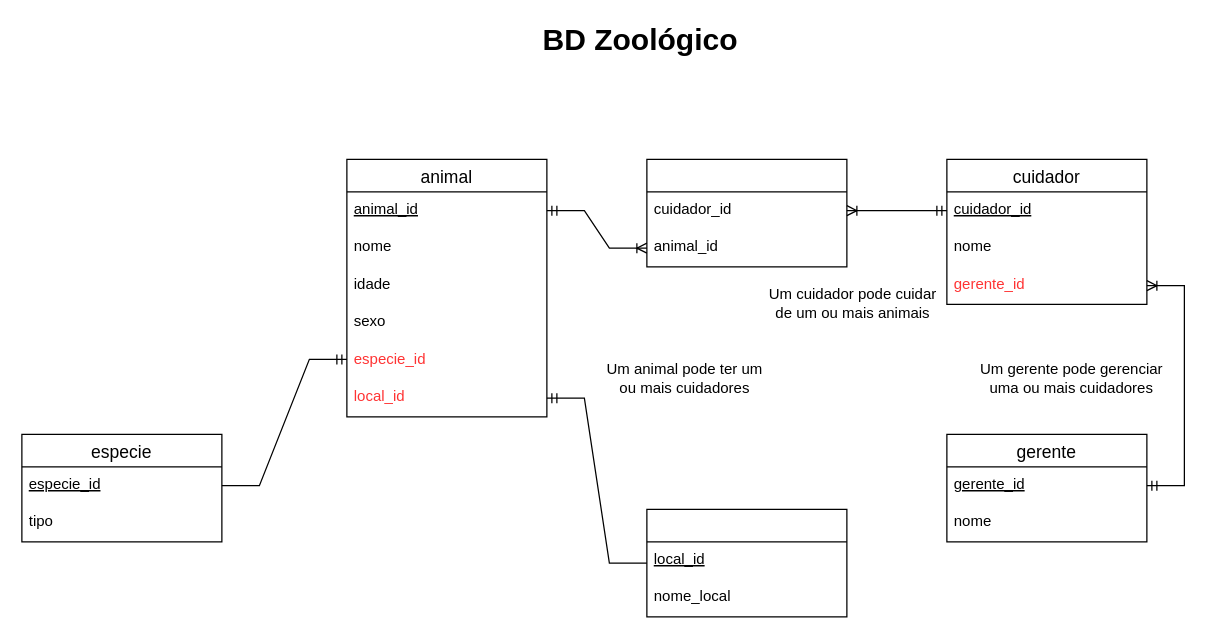
This 1218x641 diagram has some shape labels left out. The shapes that lost their labels are listed below. From the top down, each one's box as (x1, y1, x2, y2) in pixels, then its label:
(646, 158, 847, 267): cuidador_animal
(646, 508, 847, 617): localizacao
